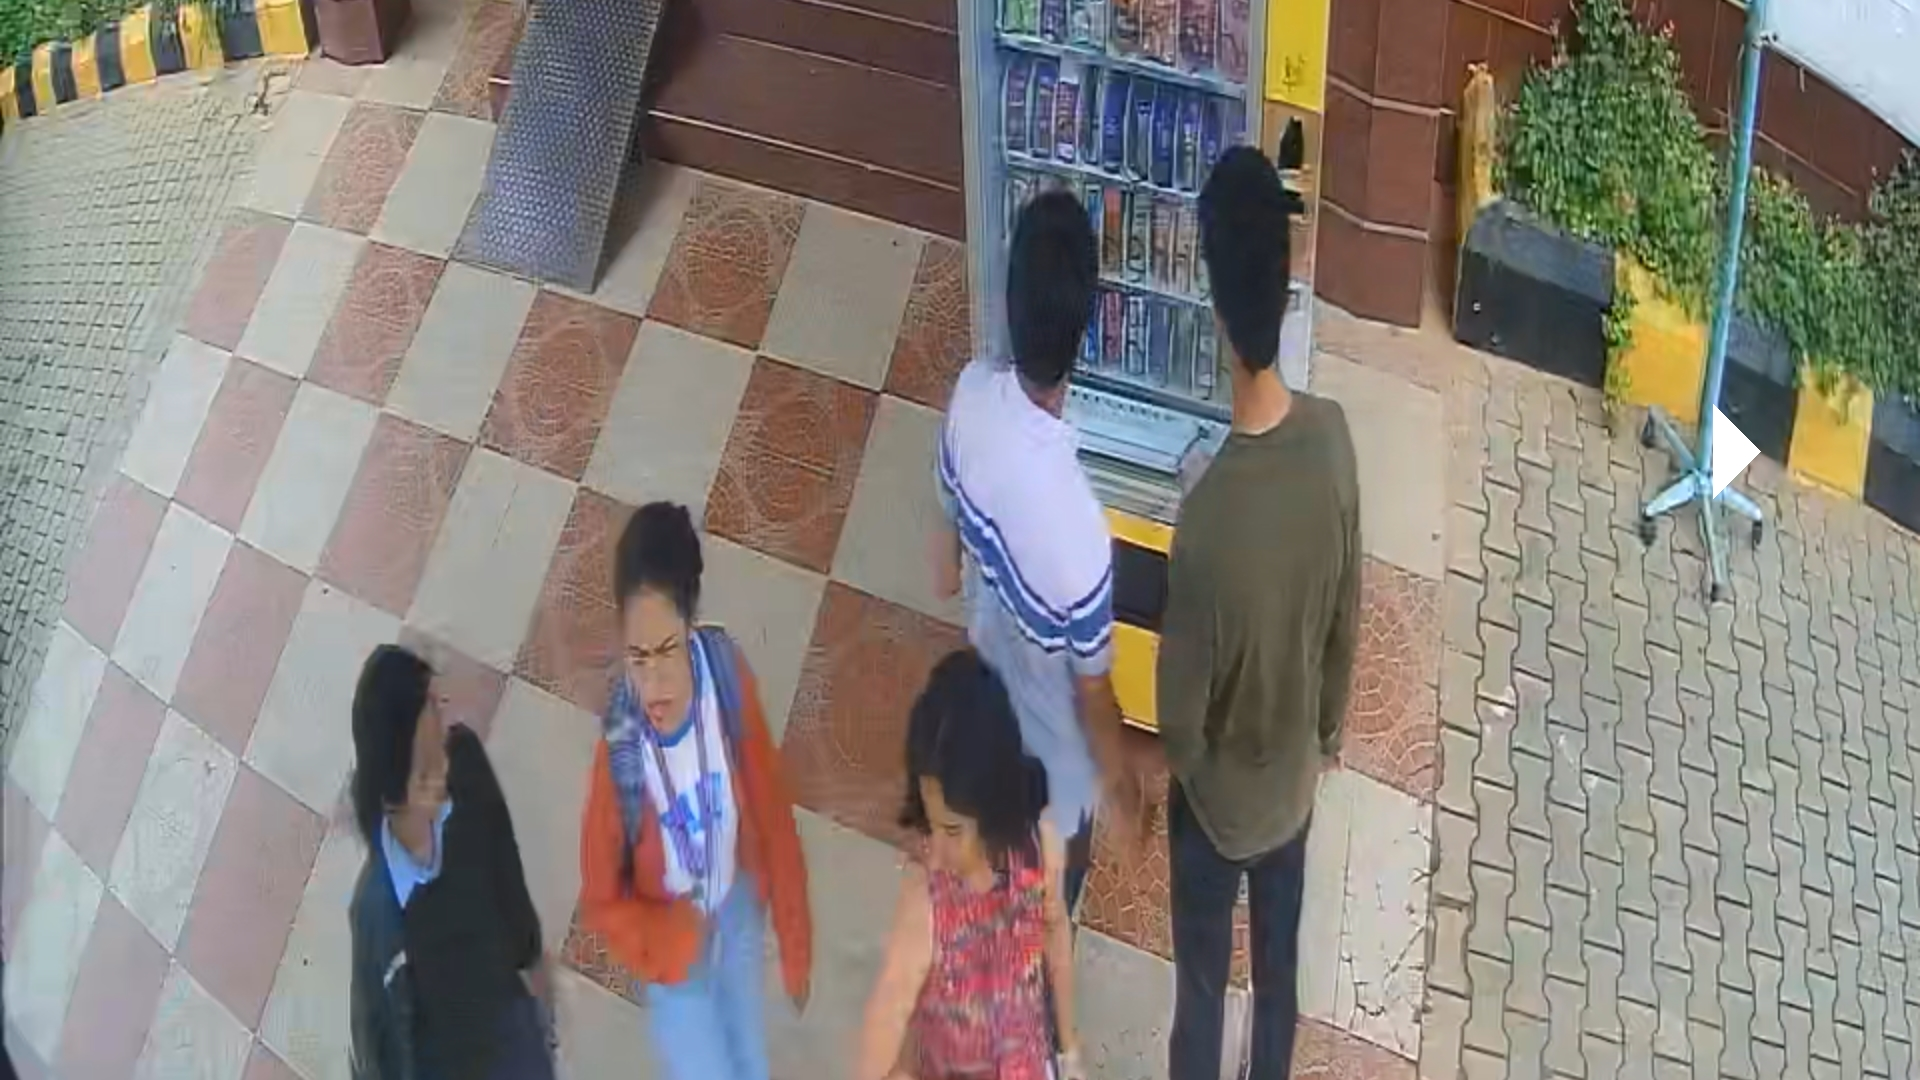intruder: (338, 669, 563, 1060), (905, 651, 1091, 1080)
not intruder: (582, 513, 843, 1080)
